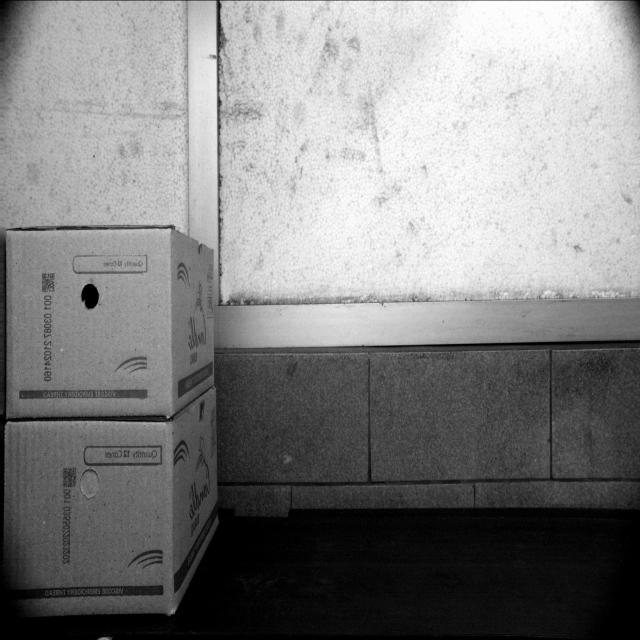cardboxes: (0, 426, 170, 620), (2, 226, 168, 424)
